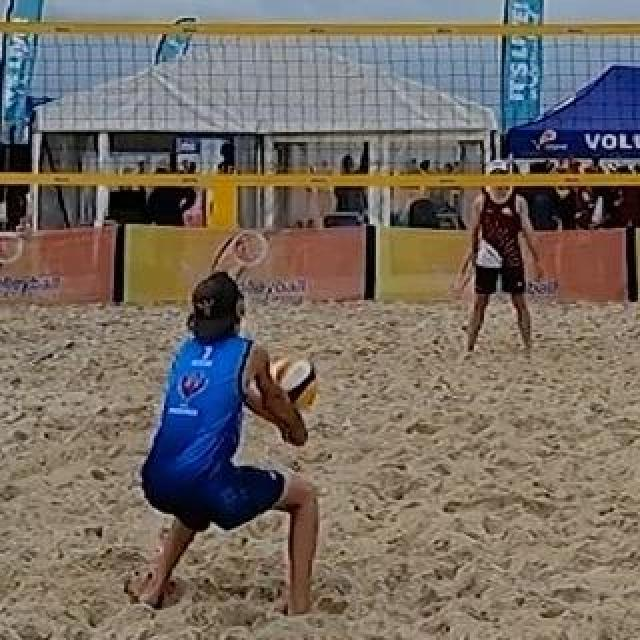volleyball: (269, 355, 317, 409)
